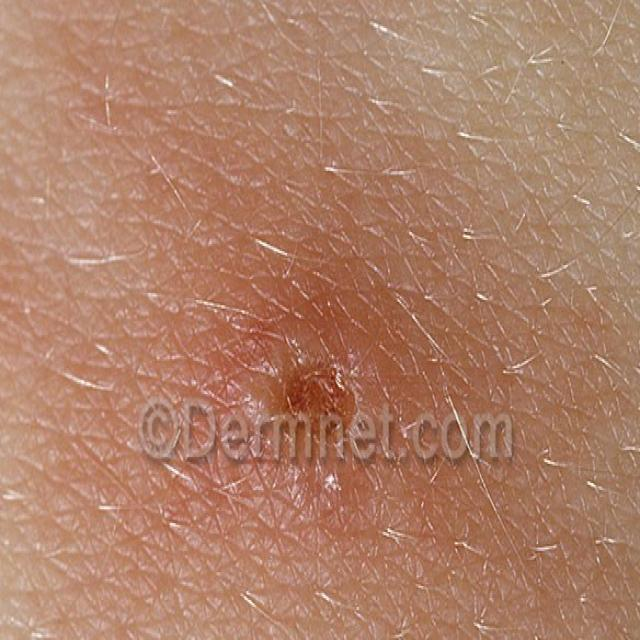Viral Infections: (212, 274, 422, 579)
